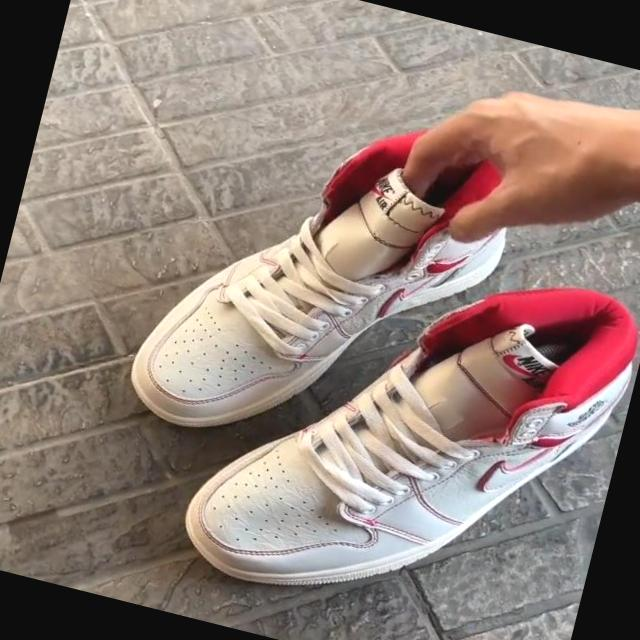nike_fake_jordan: (165, 205, 640, 640), (112, 81, 534, 492)
